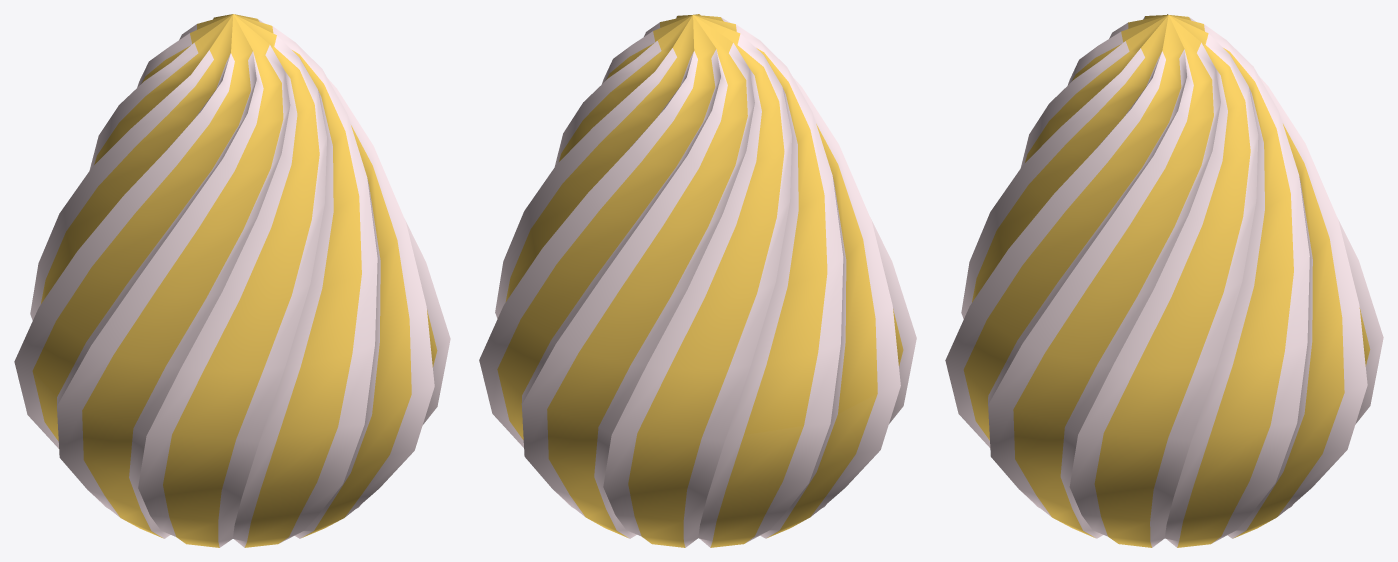
Rendered from Ice Cream Spiral A White Yellow.fbx.
3 renders of one model, left to right at view 1: azimuth 30°, elevation 25°; view 2: azimuth 150°, elevation 25°; view 3: azimuth 270°, elevation 25°, orthographic.
Visible parts, largest first — view 1: Ice Cream Spiral A White Yellow; view 2: Ice Cream Spiral A White Yellow; view 3: Ice Cream Spiral A White Yellow.
Boxes of the visible parts, x1,y1,x2,y2 form: Ice Cream Spiral A White Yellow: (14, 14, 450, 547); Ice Cream Spiral A White Yellow: (479, 14, 916, 547); Ice Cream Spiral A White Yellow: (945, 14, 1383, 547).
Size of the model in its own units: 0.4046 by 0.4954 by 0.4046.
